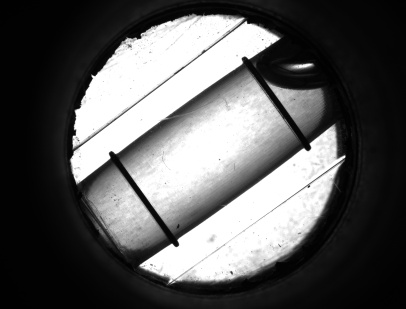line: (114, 170, 171, 223), (261, 98, 306, 129)
